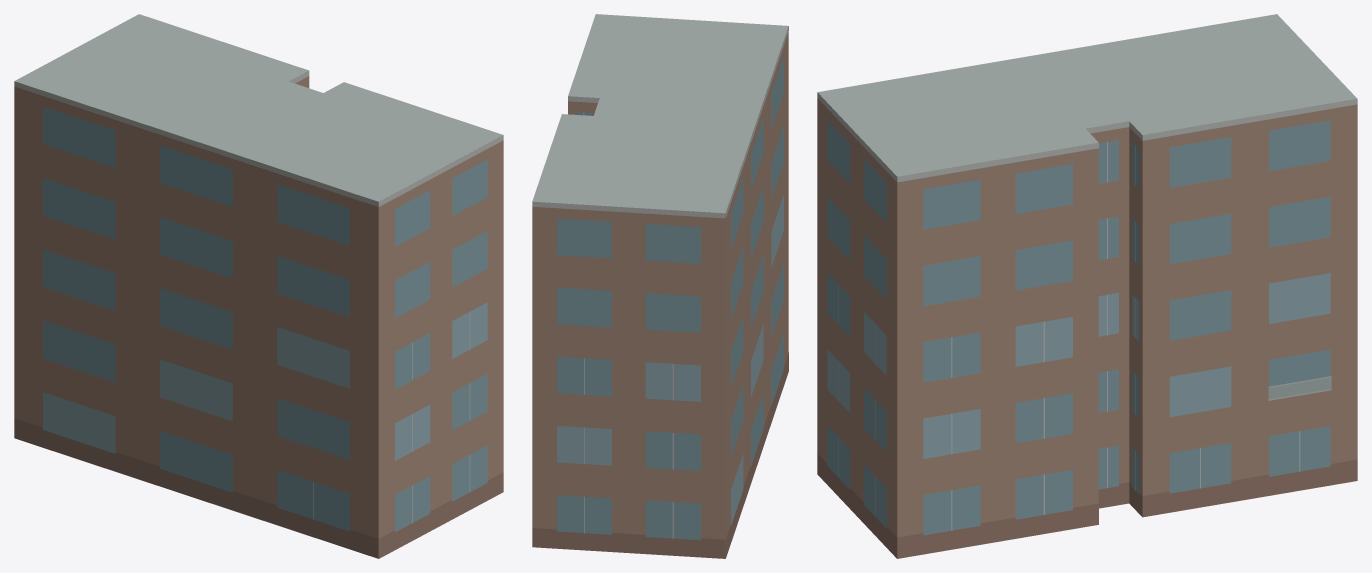
Rendered from survey-upis-33045184.glb.
3 views of the same model, side by side, from view 1: azimuth 30°, elevation 25°; view 2: azimuth 150°, elevation 25°; view 3: azimuth 270°, elevation 25° (orthographic). The views are drawn at different scales.
Visible parts, largest first — view 1: survey-upis-33045184.tmp; view 2: survey-upis-33045184.tmp; view 3: survey-upis-33045184.tmp.
Boxes of the visible parts, box(x1,y1,x2,y2) form: survey-upis-33045184.tmp: box(14, 14, 503, 558); survey-upis-33045184.tmp: box(532, 14, 788, 558); survey-upis-33045184.tmp: box(817, 14, 1357, 558).
Size of the model in its own units: 15.18 by 16.6 by 21.28.
